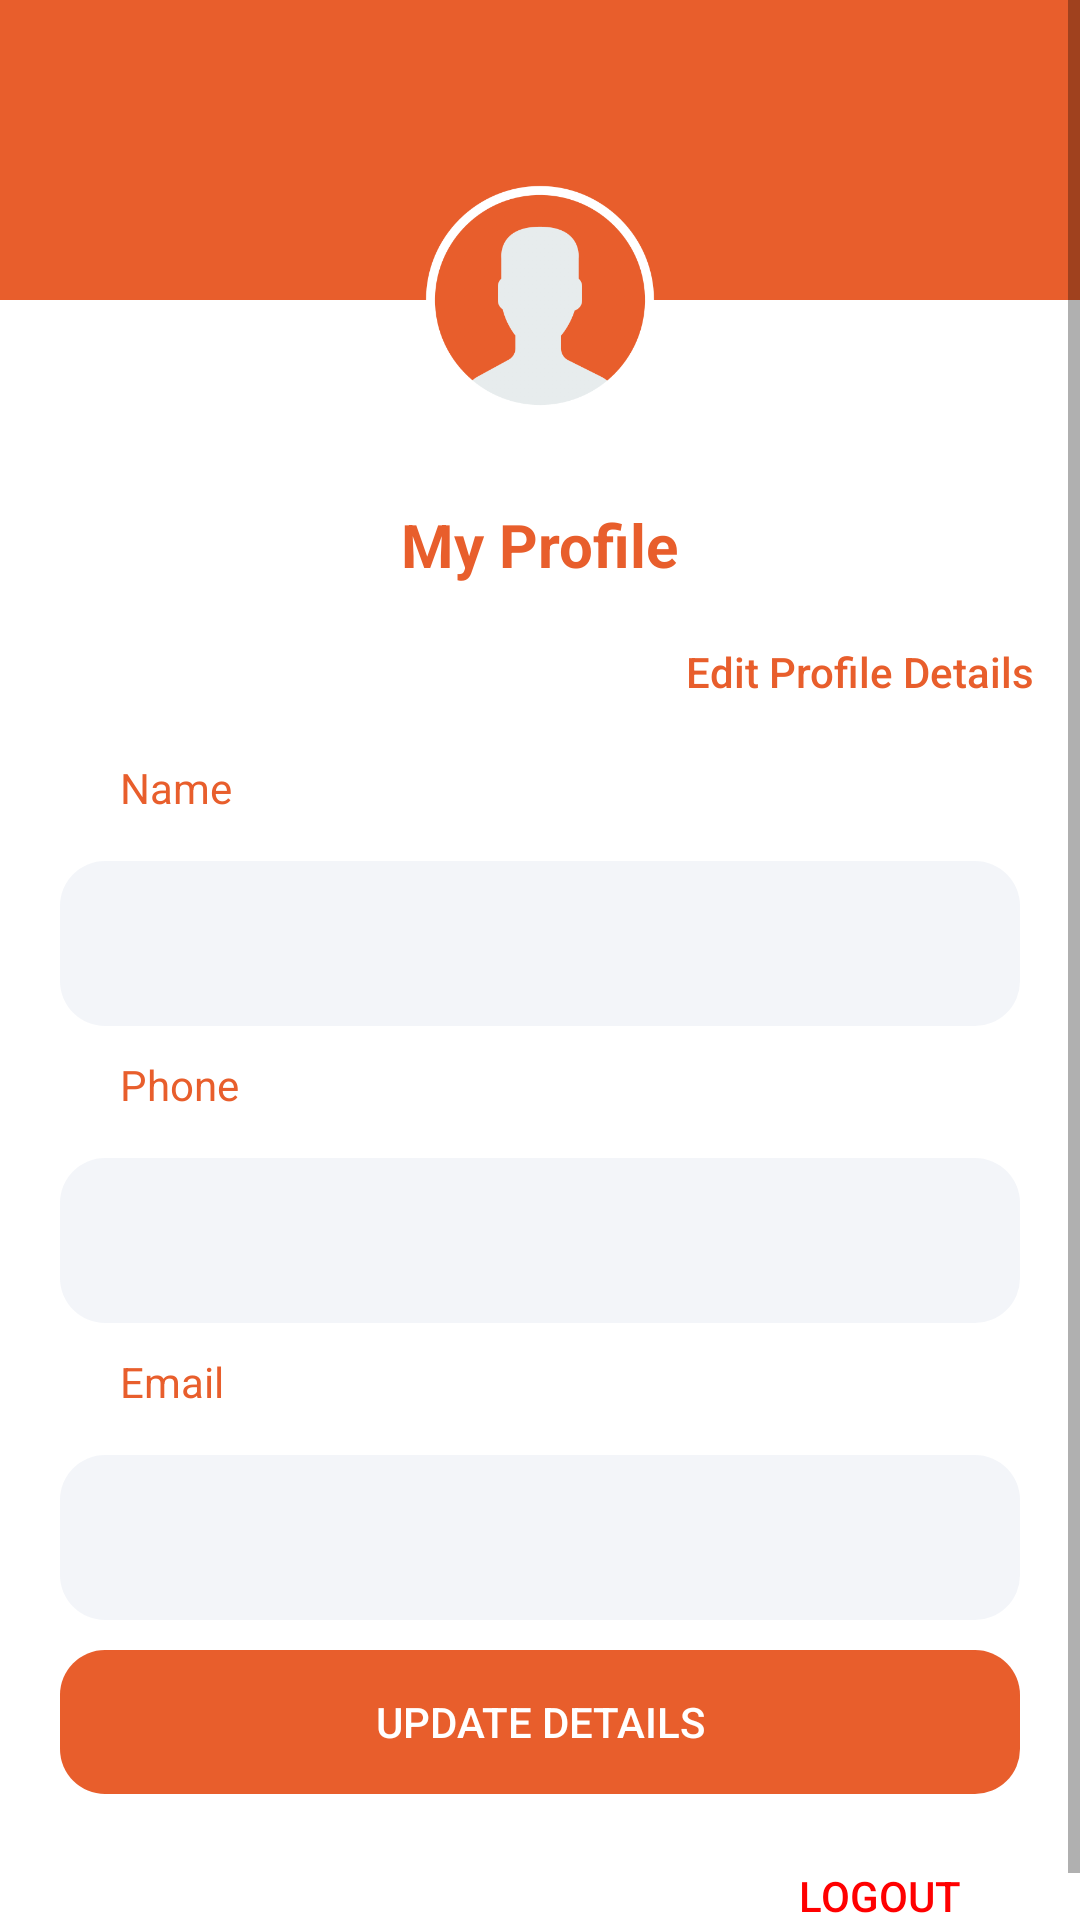

Screen size 1080 × 1920. Icon name, then its center in pixels as point (x, y):
user: point (540, 300)
